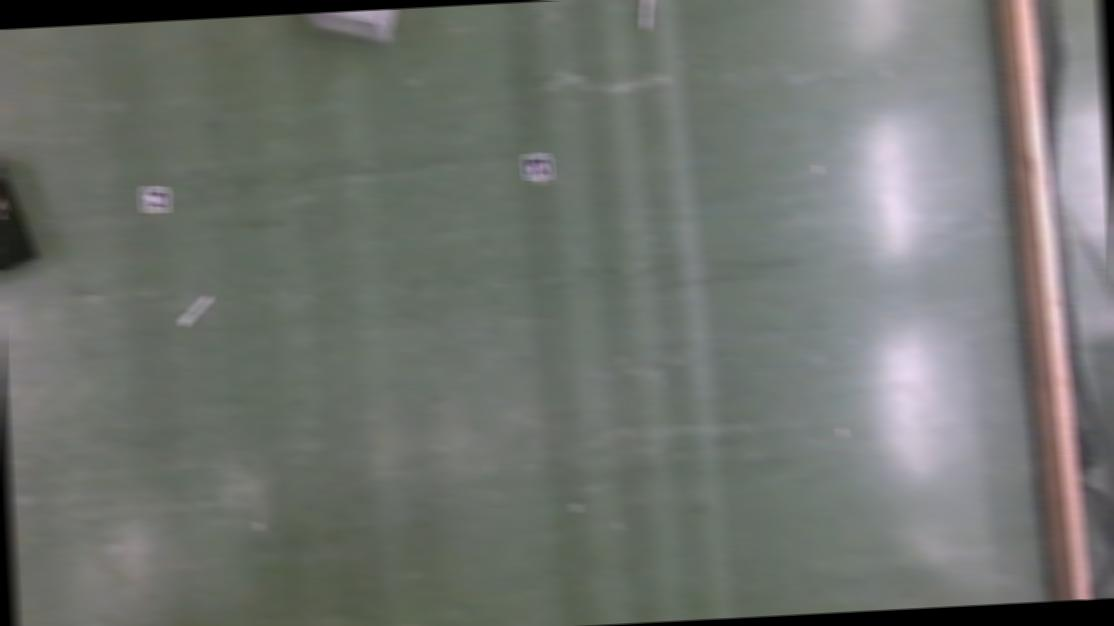probes: (180, 294, 214, 327), (638, 0, 651, 28)
rako: (0, 138, 38, 283), (295, 7, 414, 48)
